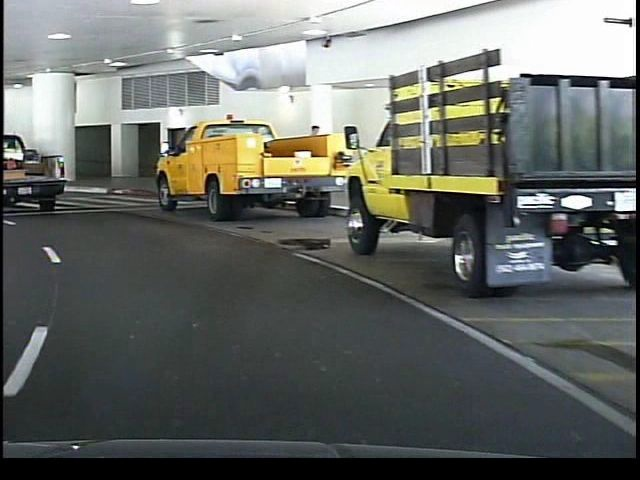person: (300, 119, 325, 199)
